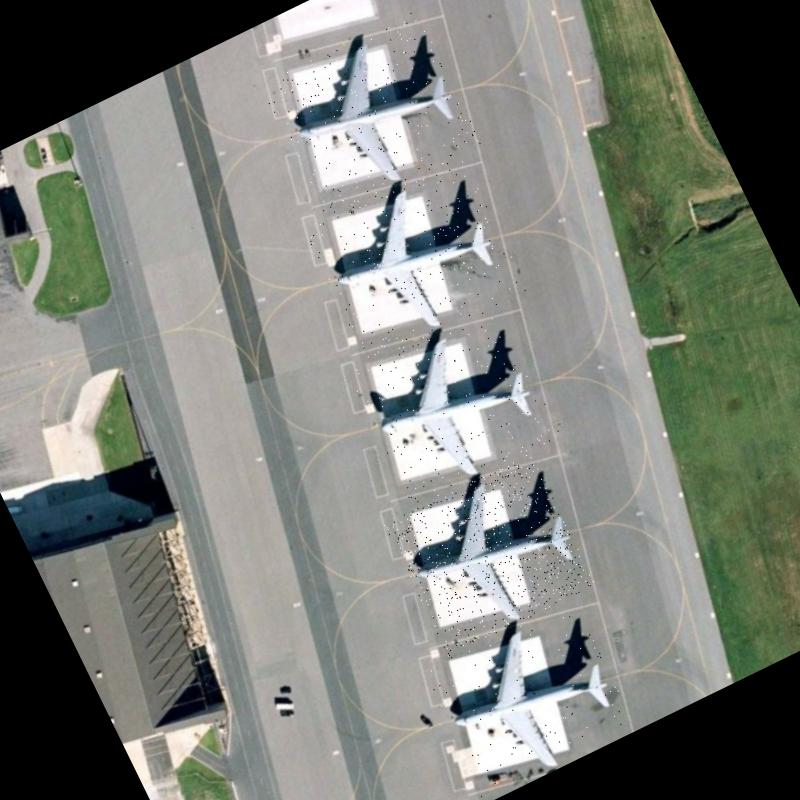A4: (303, 152, 528, 366), (260, 8, 482, 218), (346, 298, 562, 510), (384, 451, 596, 658), (419, 595, 635, 797)
